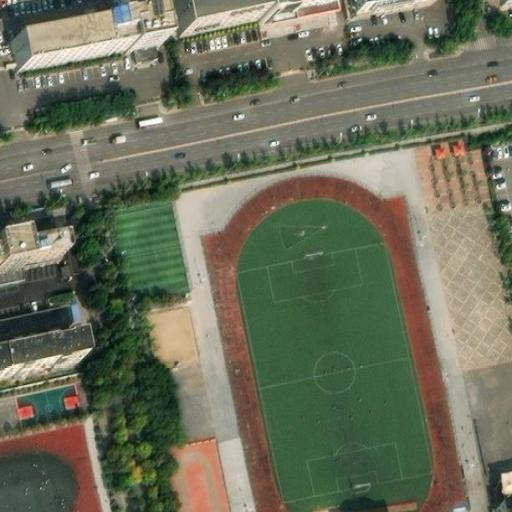building: (12, 5, 165, 63), (496, 465, 512, 512)
